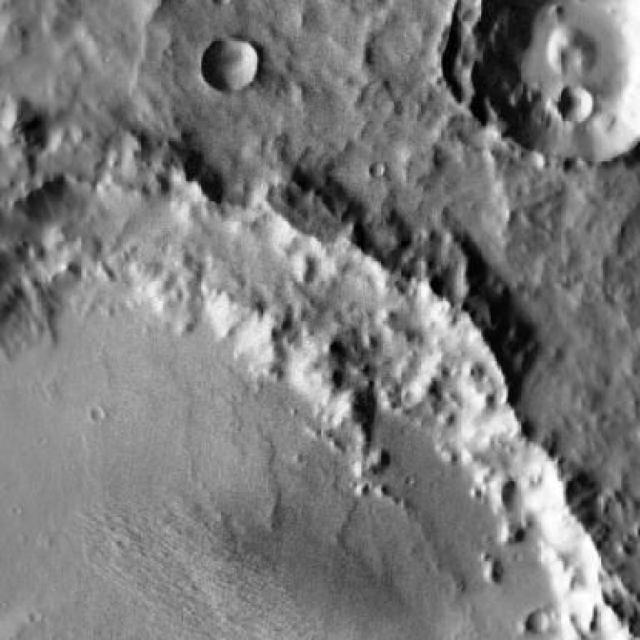crater: (3, 141, 638, 640), (477, 0, 640, 162), (205, 34, 262, 91), (556, 88, 592, 123), (532, 608, 554, 632), (371, 165, 387, 181)
